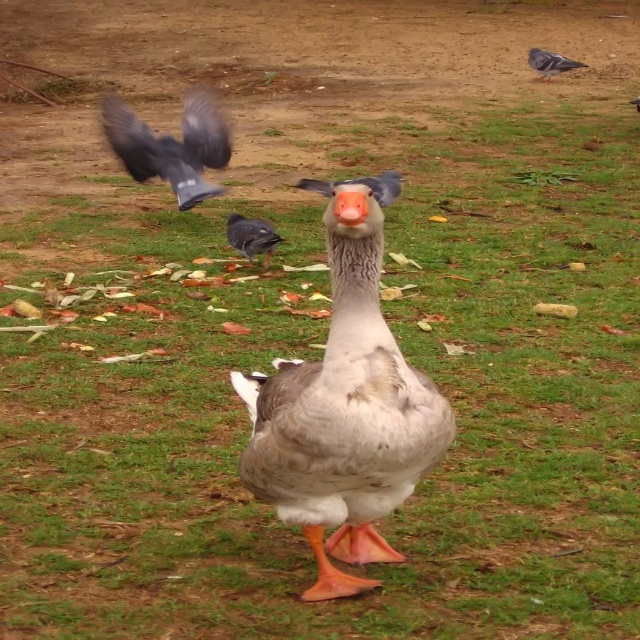Goose: (229, 181, 461, 603)
